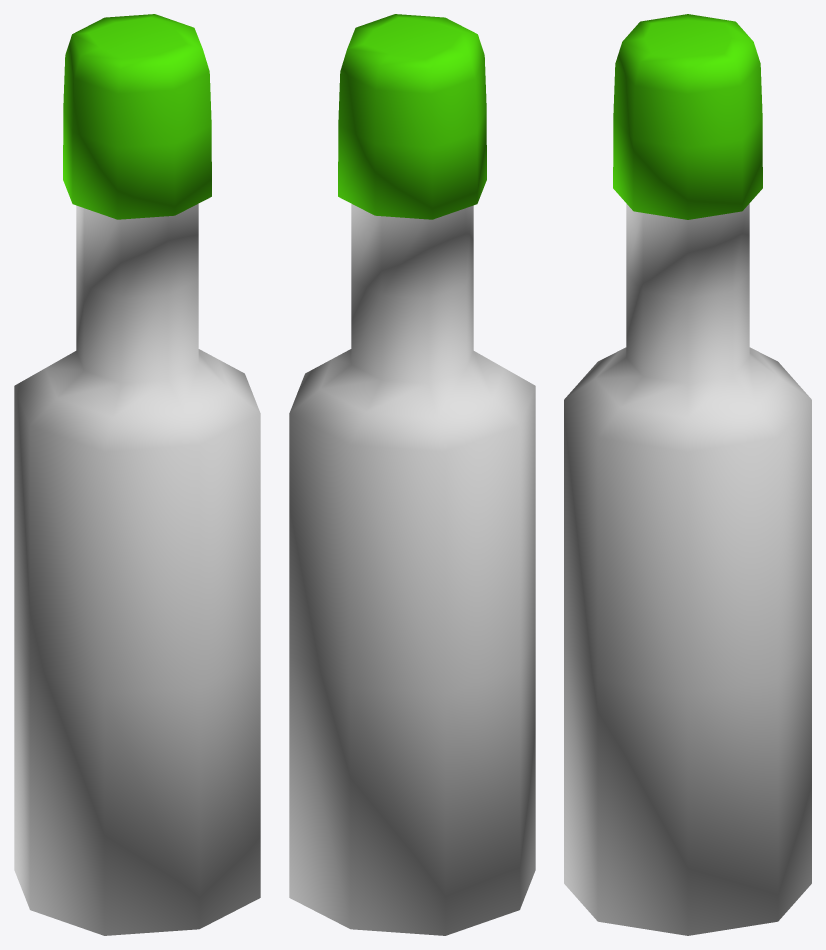
File: GarrafaOW_4.fbx
3 views of the same model, side by side, from view 1: azimuth 30°, elevation 25°; view 2: azimuth 150°, elevation 25°; view 3: azimuth 270°, elevation 25° (orthographic).
Visible parts, largest first — view 1: GarrafaOW_4; view 2: GarrafaOW_4; view 3: GarrafaOW_4.
Part boxes in pixels (<box>): GarrafaOW_4: <box>14,14,260,935</box>; GarrafaOW_4: <box>289,14,535,935</box>; GarrafaOW_4: <box>564,14,811,935</box>.
Size of the model in its own units: 9.33 by 35.07 by 9.33.
